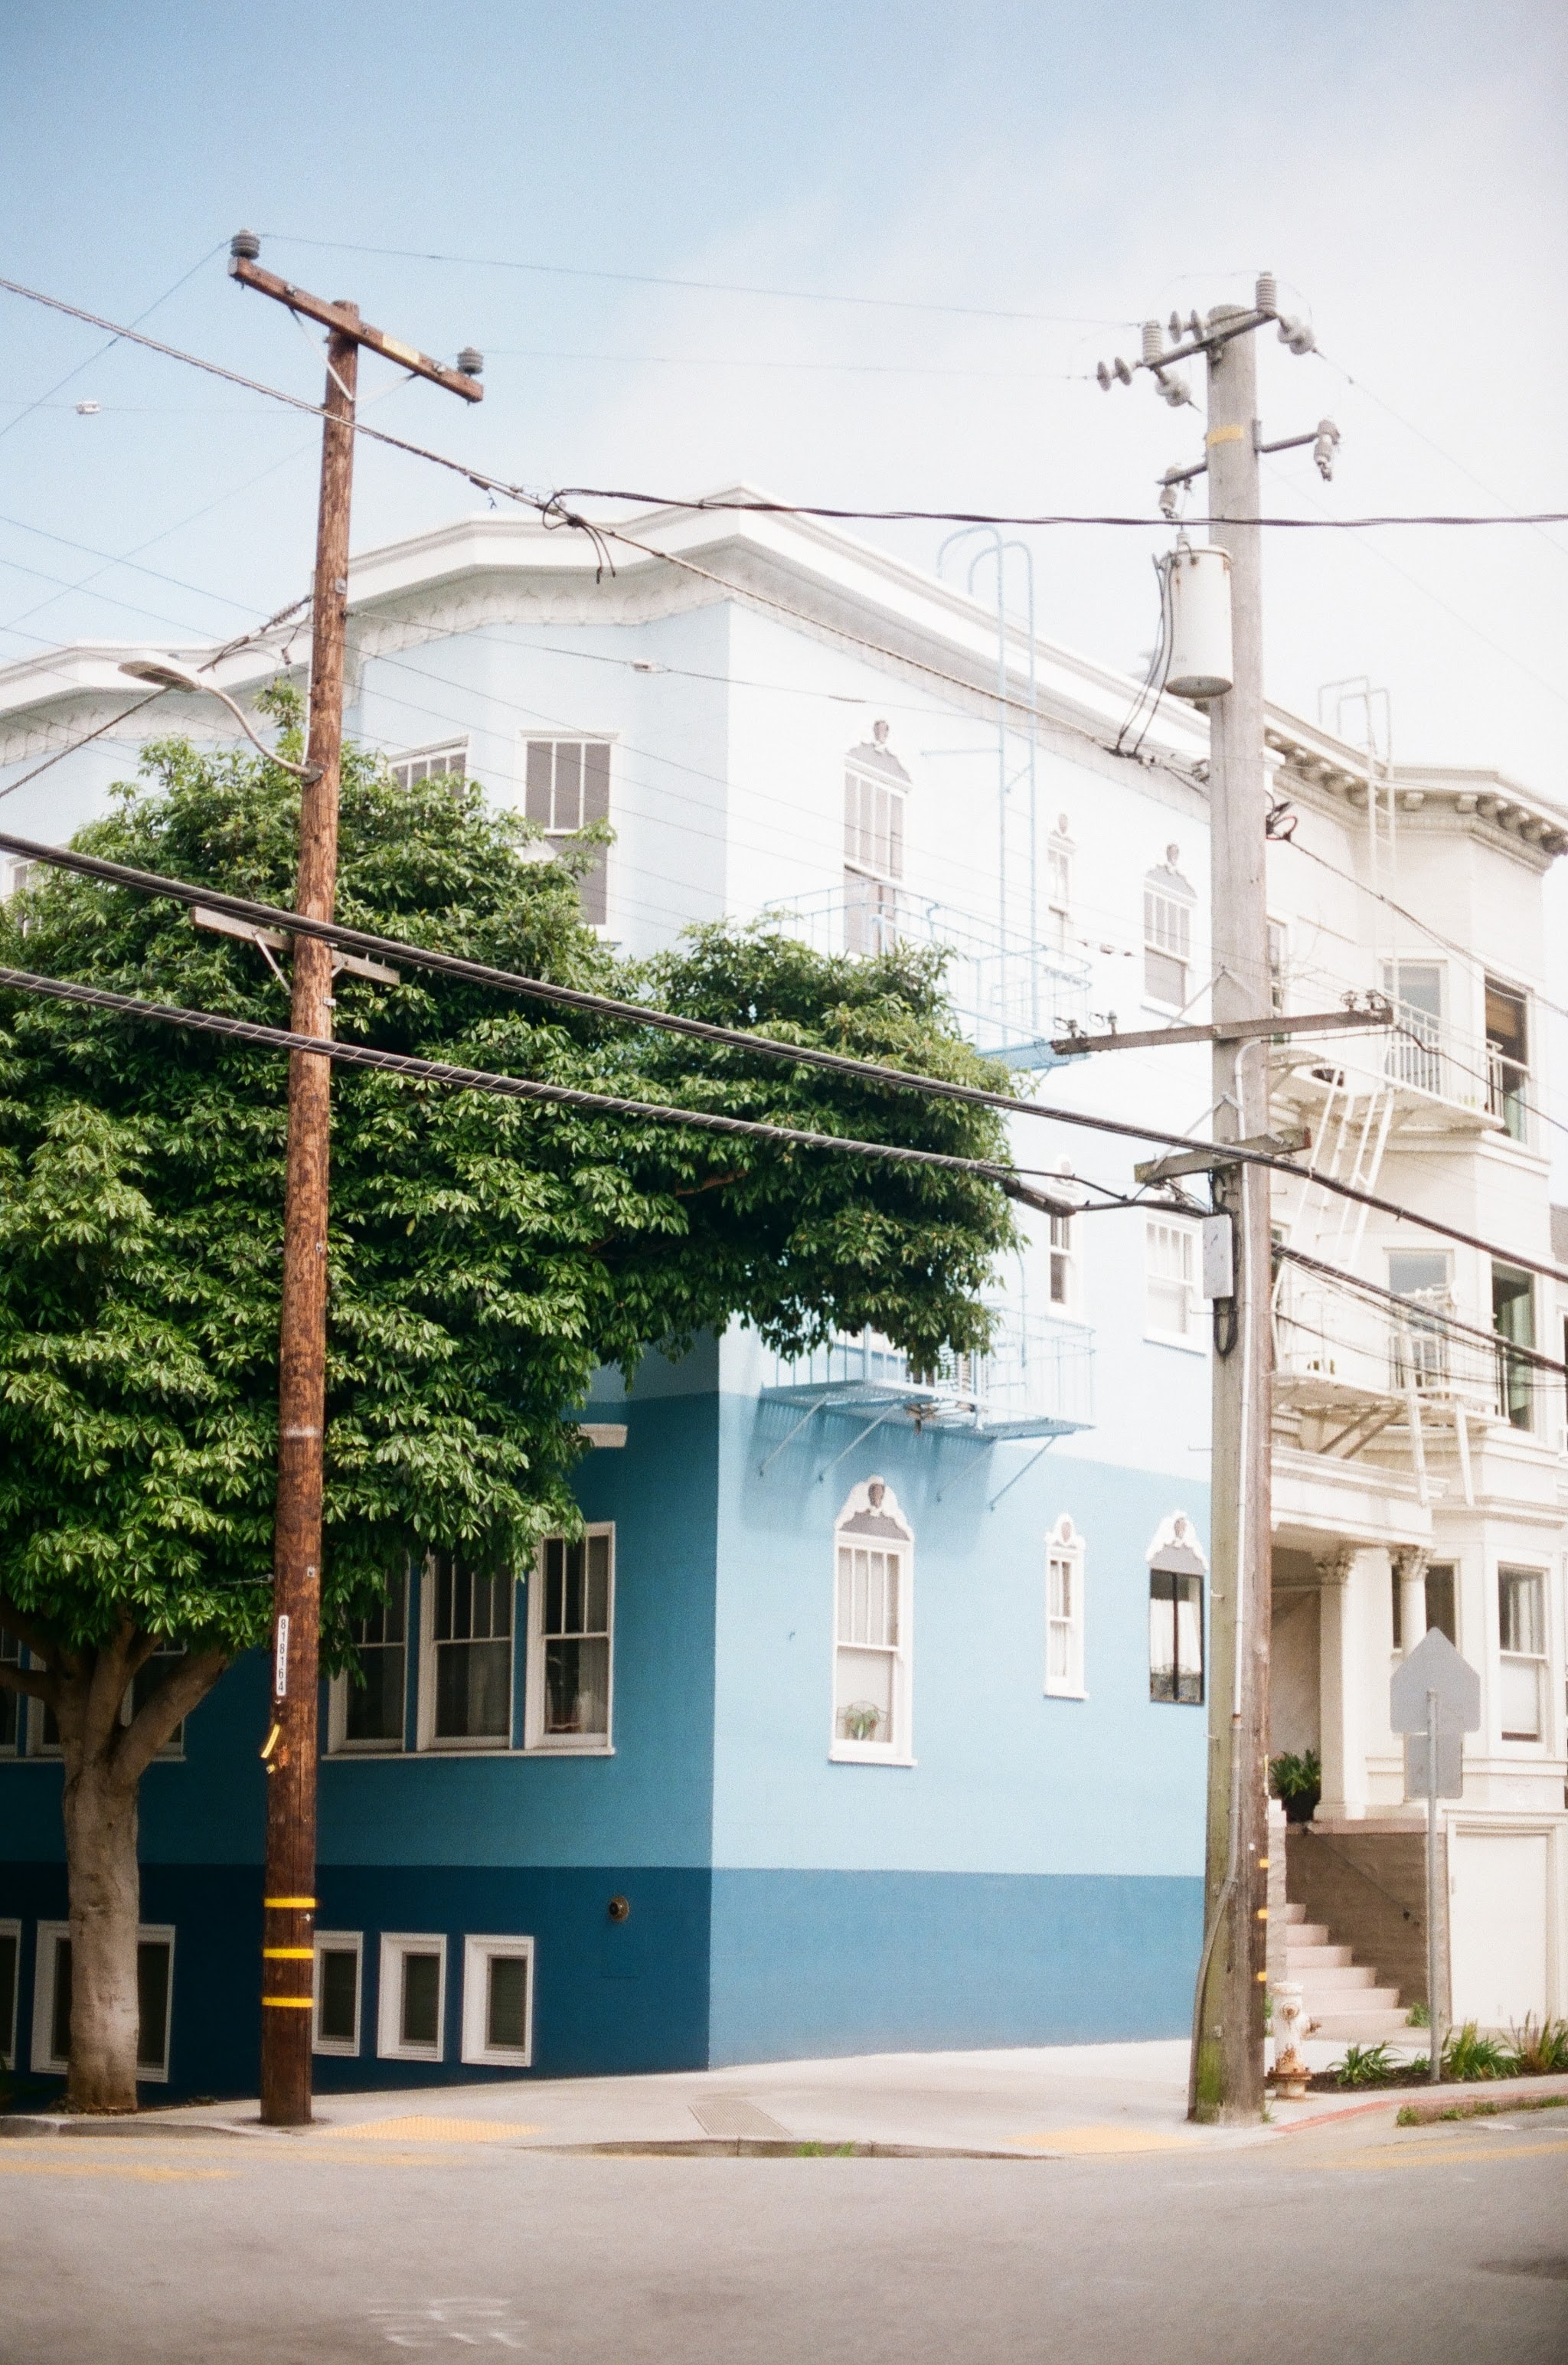utility_pole: (196, 182, 507, 535), (1060, 252, 1360, 560)
